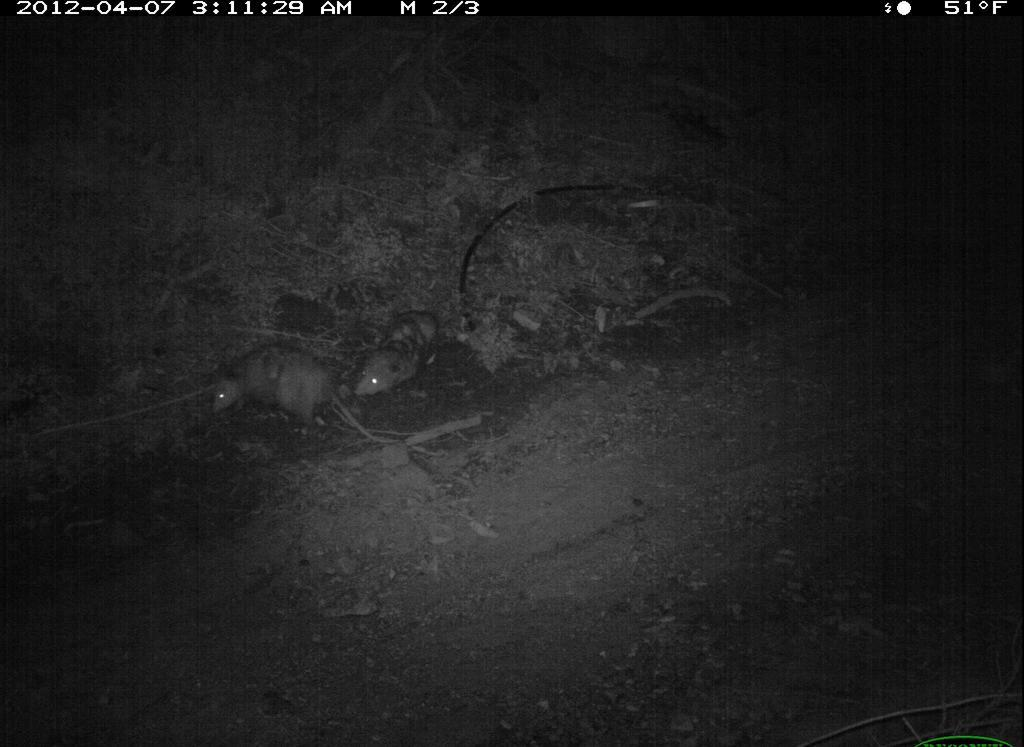opossum: (201, 333, 410, 454), (346, 299, 472, 417)
